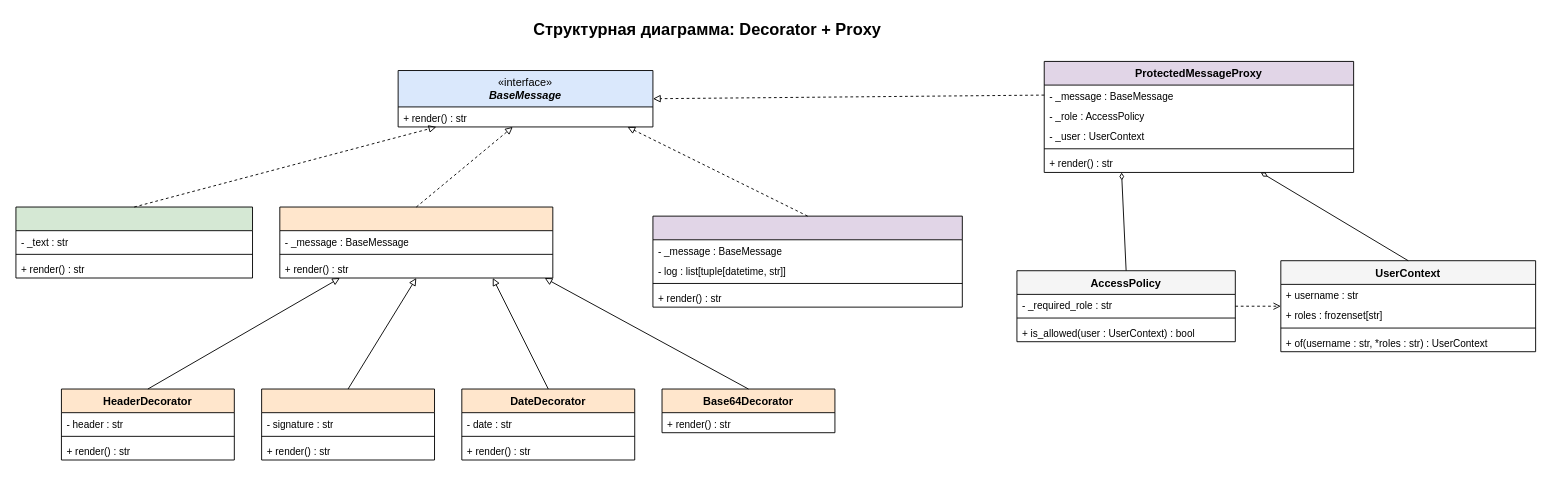
The diagram is 1552 pixels wide and 478 high, and some of its shapes have lost their labels. Here are the shapes that lost their labels. From the top down, the box of each, then its label:
(15, 206, 253, 278): Message
(279, 206, 553, 278): MessageDecorator
(652, 215, 962, 307): LoggingMessageProxy
(261, 388, 435, 460): SignatureDecorator
